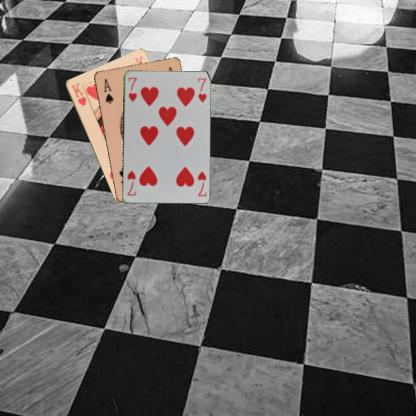7h: (196, 168, 208, 198), (125, 75, 138, 102)
As: (101, 76, 115, 104)
Kh: (69, 80, 87, 107)
